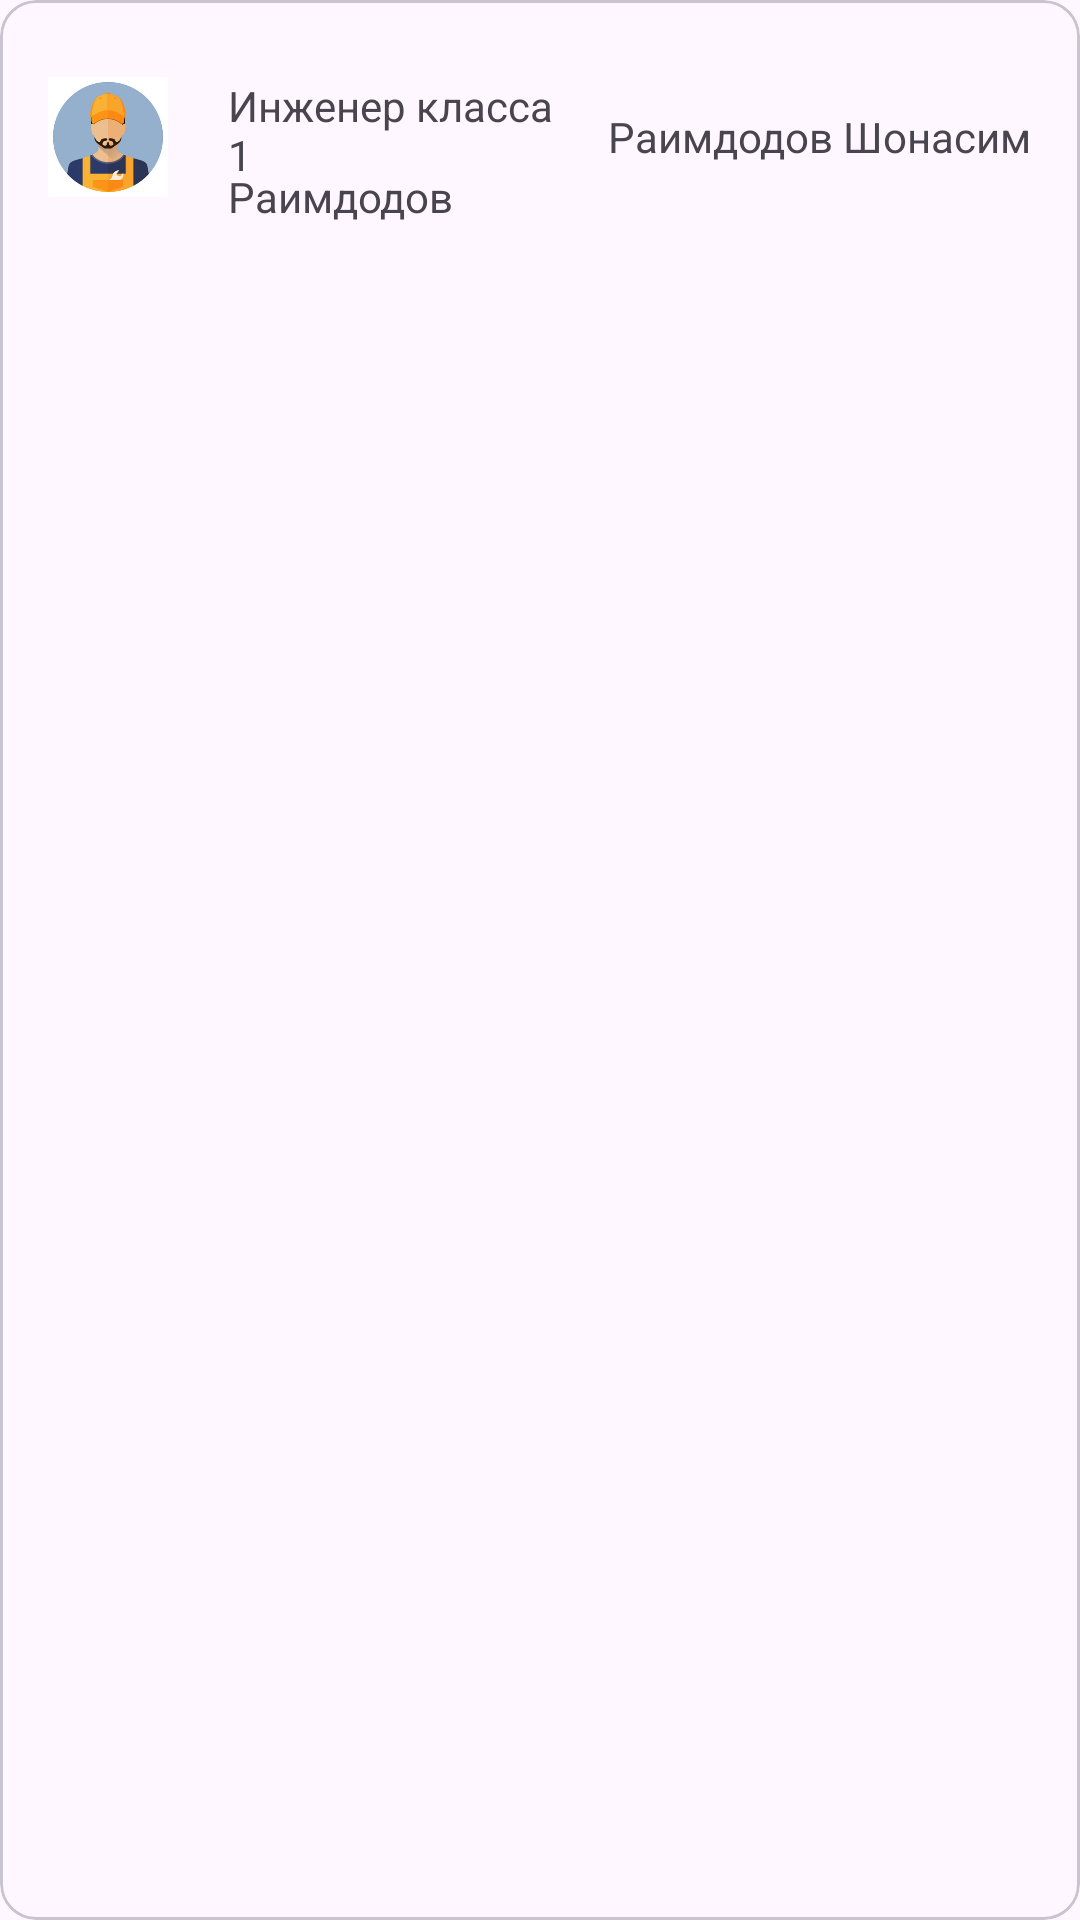

Named icons in this screenshot (1080px x 1920px) and their centers, point (x, y):
user: point (108, 137)
